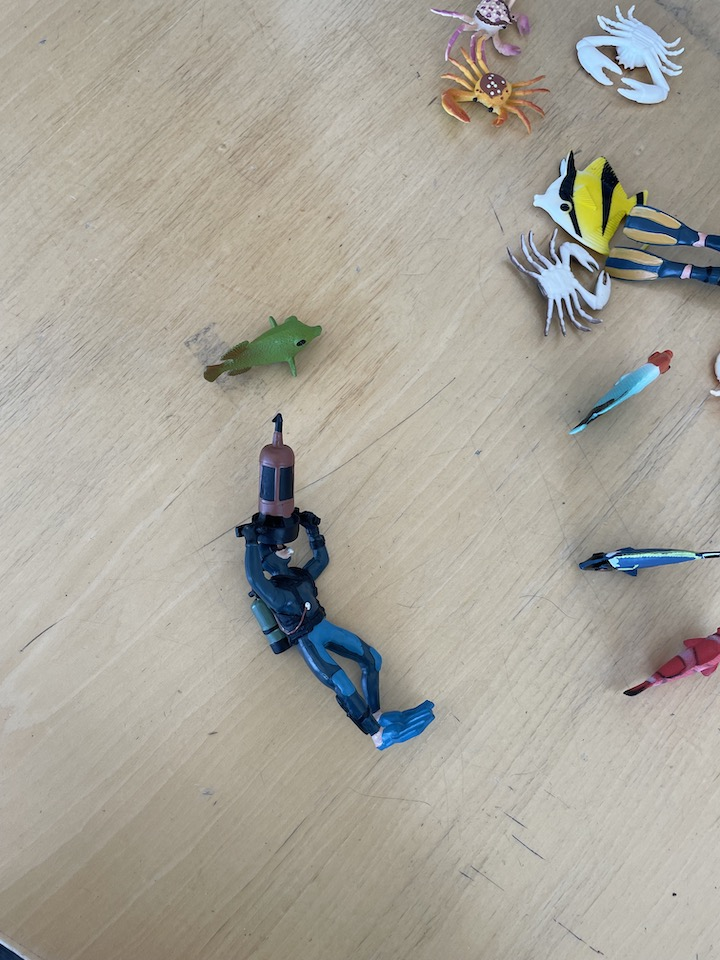crab: (505, 223, 617, 339), (431, 33, 552, 136), (572, 1, 685, 111), (436, 1, 537, 63)
danger: (528, 149, 650, 256)
diver: (233, 405, 439, 754), (592, 200, 720, 288)
fish: (565, 344, 680, 439), (198, 308, 329, 389), (616, 625, 720, 702), (573, 537, 720, 579)
